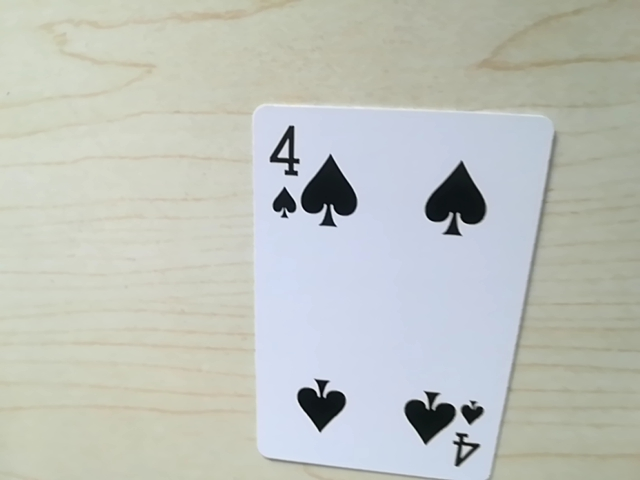ht 4: (256, 119, 322, 227), (446, 394, 492, 476)
